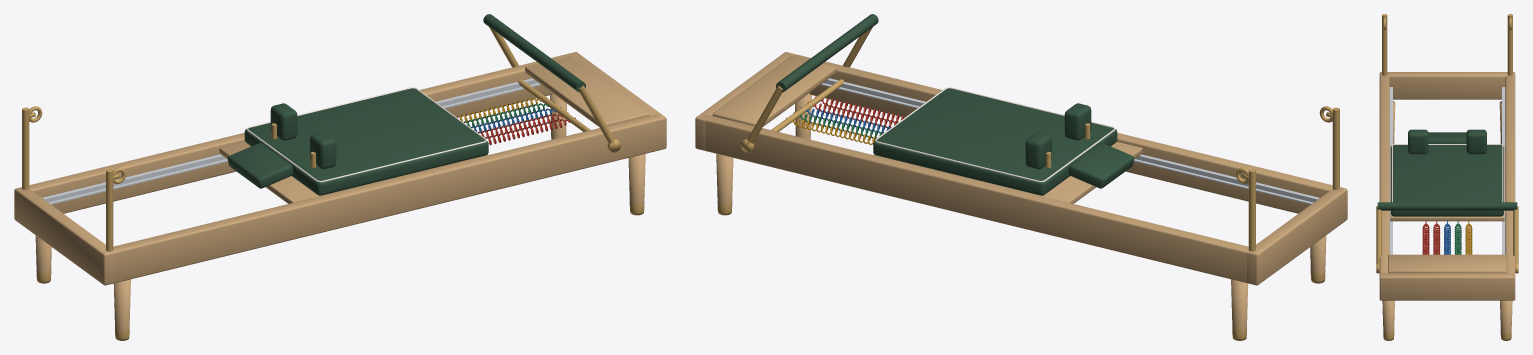
File: atelier-reformer-v9.glb
3 renders of one model, left to right at view 1: azimuth 30°, elevation 25°; view 2: azimuth 150°, elevation 25°; view 3: azimuth 270°, elevation 25°, orthographic. The views are drawn at different scales.
Visible parts, largest first — view 1: PF_OakRail_L, PF_Carriage_Pad, PF_OakRail_R, PF_OakEnd_Head, PF_StandingPlatform, PF_SteelTrack_R, PF_Headrest_Pad, PF_FootbarTop, PF_Carriage_Base, PF_OakEnd_Foot, PF_Carriage_Piping, PF_OakLeg_1.08_-0.29 (+9 smaller); view 2: PF_OakRail_R, PF_Carriage_Pad, PF_OakRail_L, PF_OakEnd_Head, PF_StandingPlatform, PF_SteelTrack_L, PF_Headrest_Pad, PF_FootbarTop, PF_Carriage_Base, PF_OakEnd_Foot, PF_Carriage_Piping, PF_OakLeg_1.08_0.29 (+9 smaller); view 3: PF_Carriage_Pad, PF_OakEnd_Foot, PF_OakEnd_Head, PF_StandingPlatform, PF_OakRail_L, PF_OakRail_R, PF_FootbarTop, PF_Carriage_Base, PF_ShoulderBlock_L, PF_ShoulderBlock_R, PF_SteelTrack_L, PF_SteelTrack_R (+13 smaller).
Part boxes in pixels (x1,y1,x2,y2): PF_OakRail_L: [104, 114, 662, 284]; PF_Carriage_Pad: [244, 88, 488, 195]; PF_OakRail_R: [19, 52, 576, 213]; PF_OakEnd_Head: [14, 187, 114, 285]; PF_StandingPlatform: [525, 56, 649, 126]; PF_SteelTrack_R: [42, 78, 540, 204]; PF_Headrest_Pad: [227, 143, 293, 188]; PF_FootbarTop: [483, 14, 585, 92]; PF_Carriage_Base: [219, 141, 487, 203]; PF_OakEnd_Foot: [567, 52, 666, 150]; PF_Carriage_Piping: [246, 87, 486, 182]; PF_OakLeg_1.08_-0.29: [628, 154, 645, 215]; PF_OakRail_R: [699, 114, 1256, 283]; PF_Carriage_Pad: [873, 88, 1117, 195]; PF_OakRail_L: [784, 53, 1342, 213]; PF_OakEnd_Head: [1247, 187, 1347, 285]; PF_StandingPlatform: [712, 56, 836, 126]; PF_SteelTrack_L: [821, 78, 1319, 204]; PF_Headrest_Pad: [1068, 143, 1134, 188]; PF_FootbarTop: [776, 14, 878, 92]; PF_Carriage_Base: [874, 141, 1142, 203]; PF_OakEnd_Foot: [695, 52, 794, 149]; PF_Carriage_Piping: [875, 87, 1115, 182]; PF_OakLeg_1.08_0.29: [716, 154, 733, 215]; PF_Carriage_Pad: [1391, 145, 1503, 216]; PF_OakEnd_Foot: [1379, 273, 1515, 300]; PF_OakEnd_Head: [1379, 72, 1515, 99]; PF_StandingPlatform: [1388, 254, 1506, 273]; PF_OakRail_L: [1379, 75, 1389, 275]; PF_OakRail_R: [1505, 75, 1515, 275]; PF_FootbarTop: [1377, 202, 1517, 210]; PF_Carriage_Base: [1390, 146, 1504, 221]; PF_ShoulderBlock_L: [1408, 129, 1428, 154]; PF_ShoulderBlock_R: [1466, 129, 1486, 154]; PF_SteelTrack_L: [1389, 87, 1392, 254]; PF_SteelTrack_R: [1502, 87, 1505, 254].
Size of the model in its own units: 2.36 by 0.6965 by 0.691.
10 materials, 1 textured.
